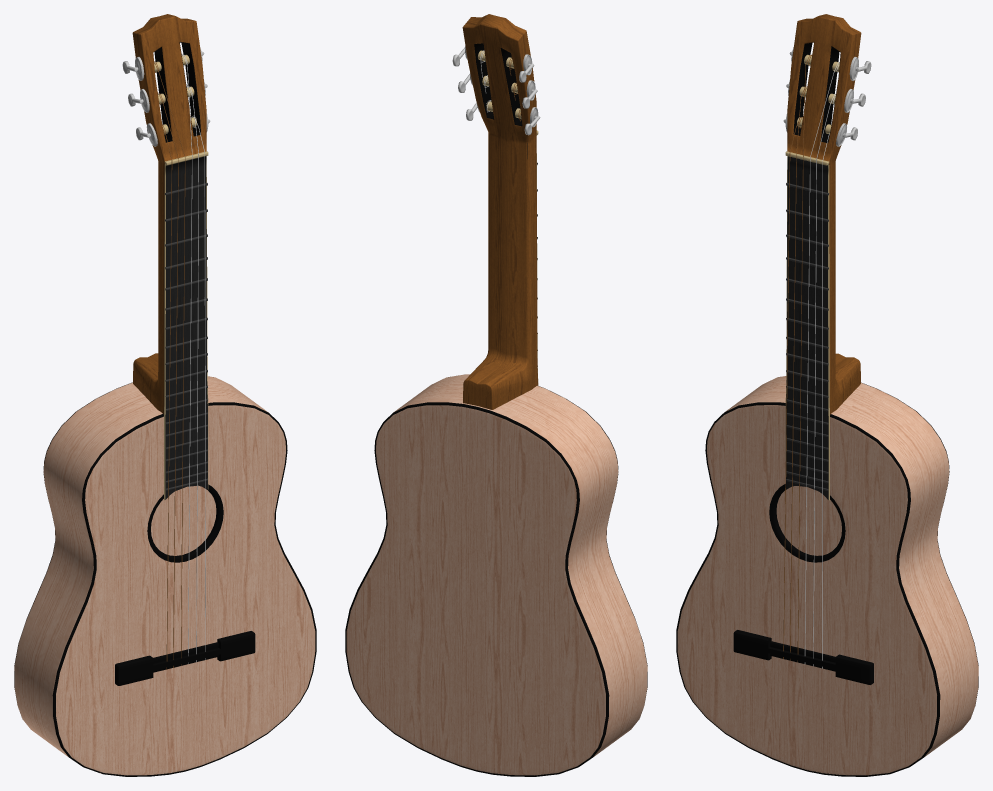
The model's file is ClassicGuitar.fbx.
3 renders of one model, left to right at view 1: azimuth 30°, elevation 25°; view 2: azimuth 150°, elevation 25°; view 3: azimuth 330°, elevation 25°, orthographic.
Visible parts, largest first — view 1: ClassicGuitarStrings; view 2: ClassicGuitarStrings; view 3: ClassicGuitarStrings.
Boxes of the visible parts, <box> form: ClassicGuitarStrings: <box>14,14,316,776</box>; ClassicGuitarStrings: <box>345,14,647,776</box>; ClassicGuitarStrings: <box>676,14,978,776</box>.
Size of the model in its own units: 112 by 300 by 32.13.
